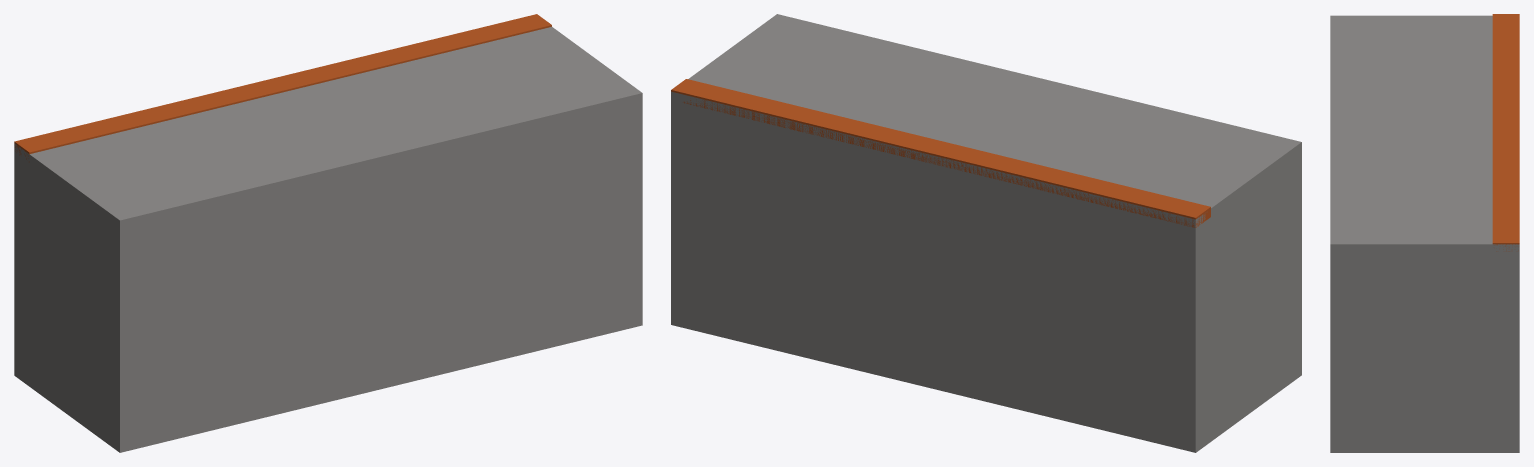
The model's file is B_k_step.glb.
3 renders of one model, left to right at view 1: azimuth 30°, elevation 25°; view 2: azimuth 150°, elevation 25°; view 3: azimuth 270°, elevation 25°, orthographic. The views are drawn at different scales.
Visible parts, largest first — view 1: Cube, Cube.001; view 2: Cube, Cube.001; view 3: Cube, Cube.001.
Boxes of the visible parts, x1,y1,x2,y2 form: Cube: [14, 27, 642, 452]; Cube.001: [14, 14, 551, 162]; Cube: [671, 14, 1301, 452]; Cube.001: [671, 79, 1210, 227]; Cube: [1330, 15, 1519, 452]; Cube.001: [1492, 14, 1519, 251].
Size of the model in its own units: 1.6 by 0.685 by 0.56.
